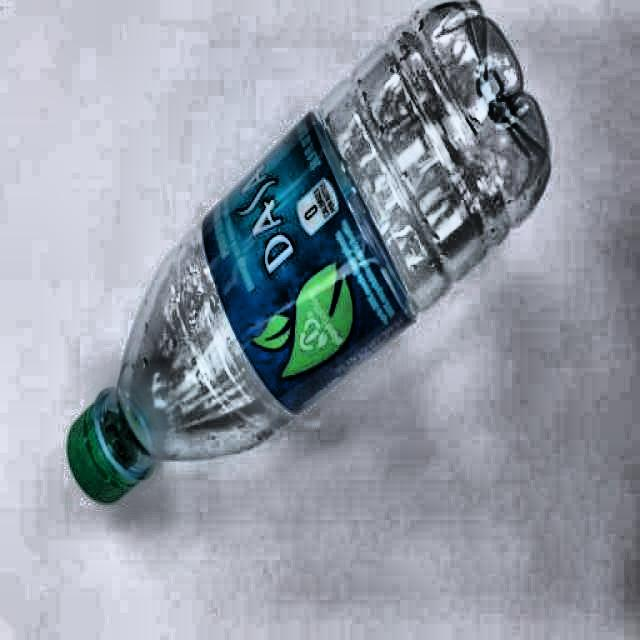plastic bottle: (67, 2, 551, 504)
